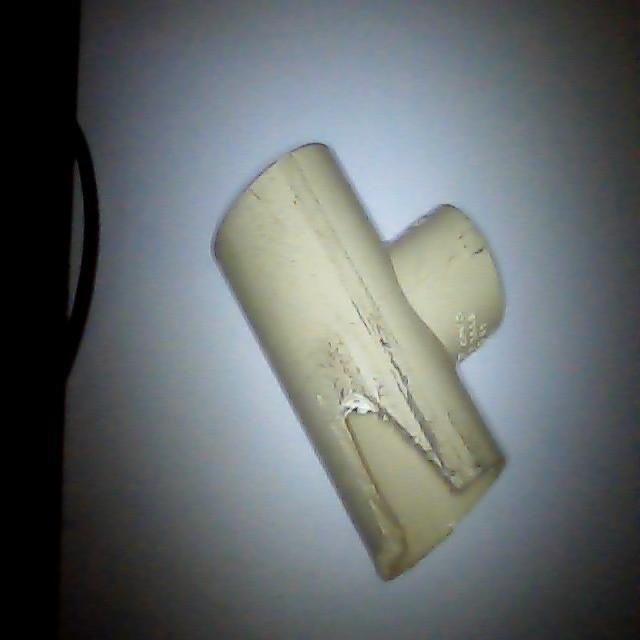Defective: (334, 398, 456, 542), (346, 413, 468, 552)
T Joint: (211, 142, 508, 585)
